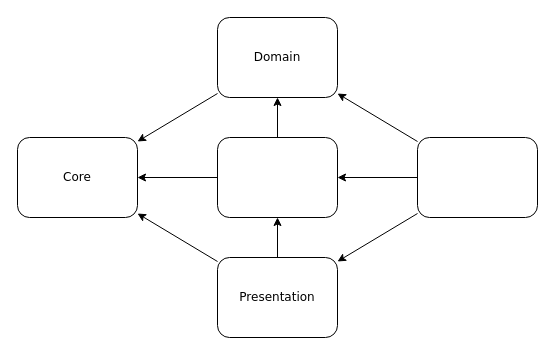
The diagram is 555 pixels wide and 355 high, and some of its shapes have lost their labels. Here are the shapes that lost their labels. From the top down, the centre of each, then its label:
(277,177): Application
(477,177): Infrastructure
